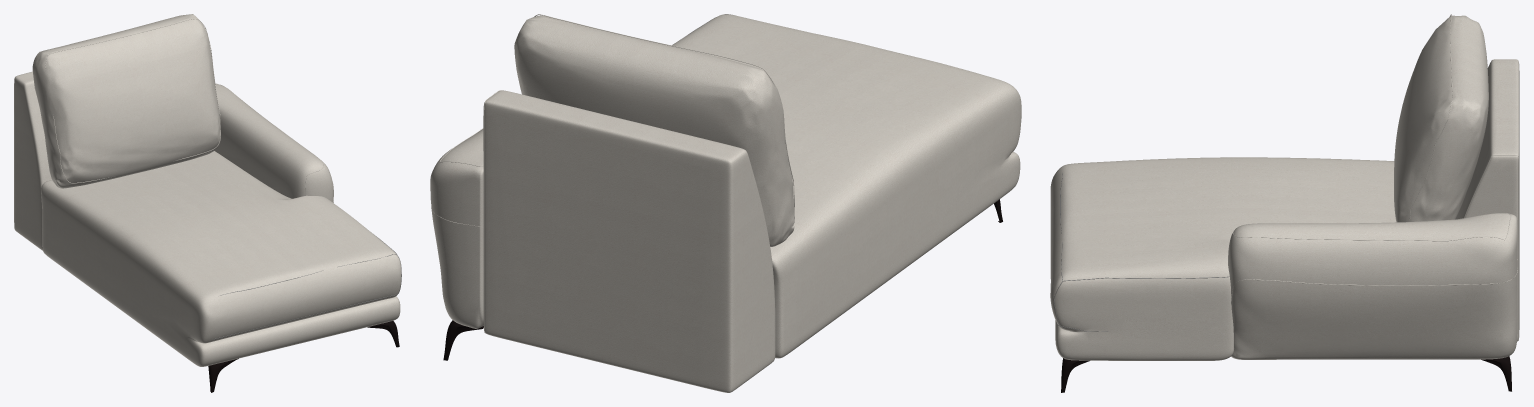
Rendered from chaise.glb.
3 views of the same model, side by side, from view 1: azimuth 30°, elevation 25°; view 2: azimuth 150°, elevation 25°; view 3: azimuth 270°, elevation 25° (orthographic). The views are drawn at different scales.
Parts seen in each view (by area): view 1: object 1, pé, D=~ 0,00 m; view 2: object 1, pé; view 3: object 1, pé.
Boxes of the visible parts, box(x1,y1,x2,y2) form: object 1: box(14, 14, 401, 366); pé: box(208, 321, 399, 392); D=~ 0,00 m: box(213, 236, 401, 339); object 1: box(430, 14, 1021, 392); pé: box(443, 199, 1002, 360); object 1: box(1050, 14, 1519, 360); pé: box(1061, 356, 1511, 392).
Size of the model in its own units: 1.04 by 1.04 by 1.64.
Materials: 3 (1 with a texture image).
